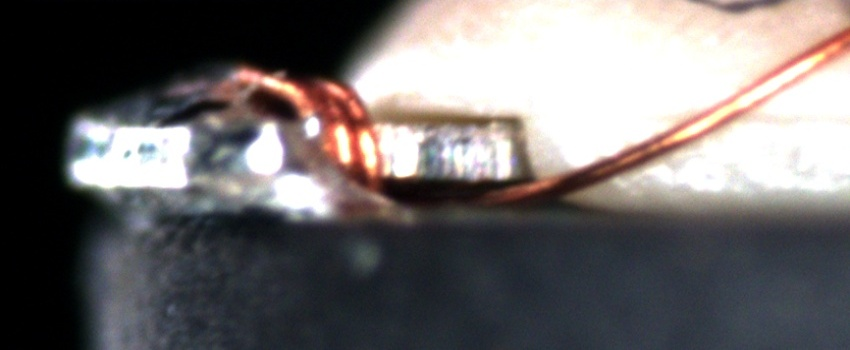DL: (726, 106, 850, 140)
TE: (225, 56, 388, 205)
